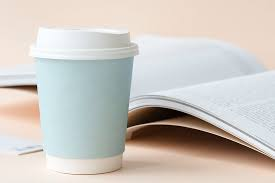paper_cup: (31, 25, 140, 177)
